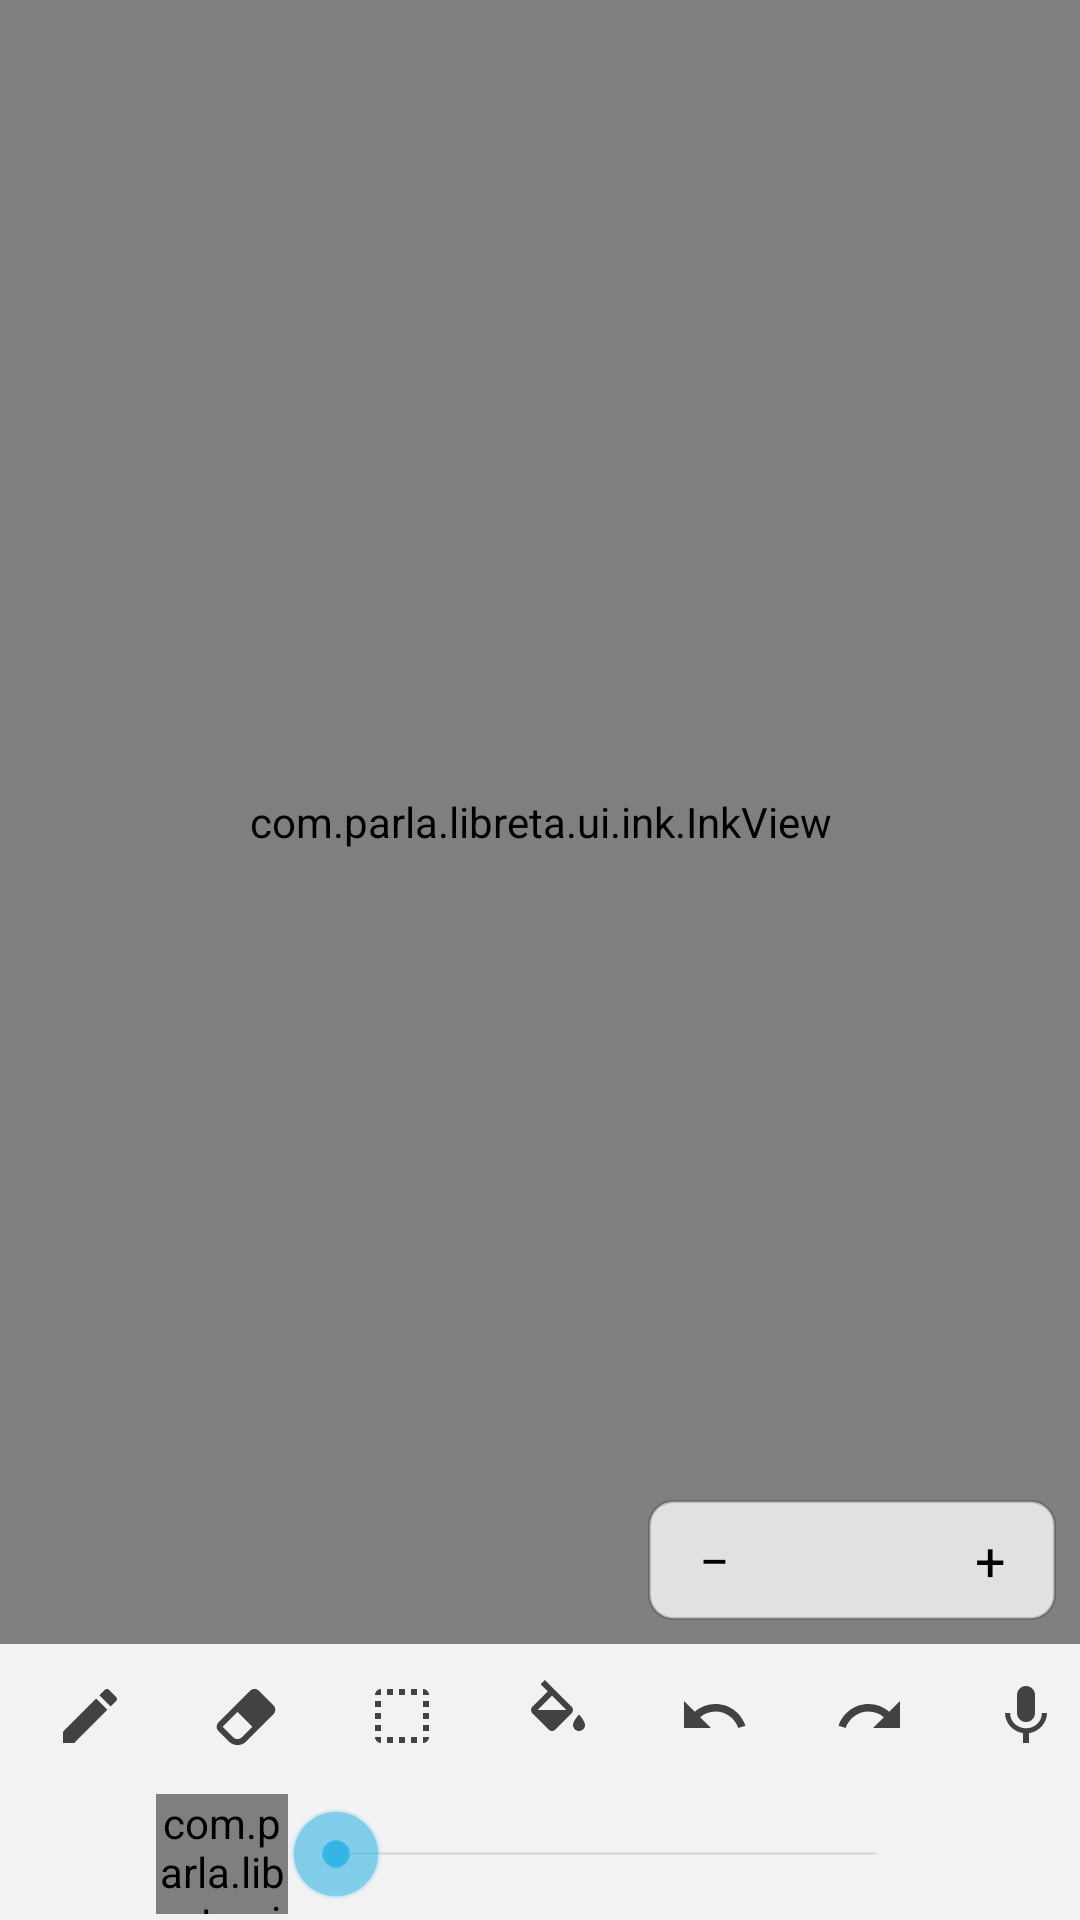

Where icons sit on this 1080*1920 app screen, as bbox=(x1, y1, x2, y2):
Borrador: bbox=(216, 1689, 276, 1745)
Deshacer: bbox=(684, 1701, 746, 1728)
Pluma: bbox=(63, 1689, 117, 1743)
Rehacer: bbox=(838, 1701, 900, 1728)
Rellenar: bbox=(531, 1680, 585, 1731)
Seleccionar: bbox=(375, 1689, 429, 1743)
